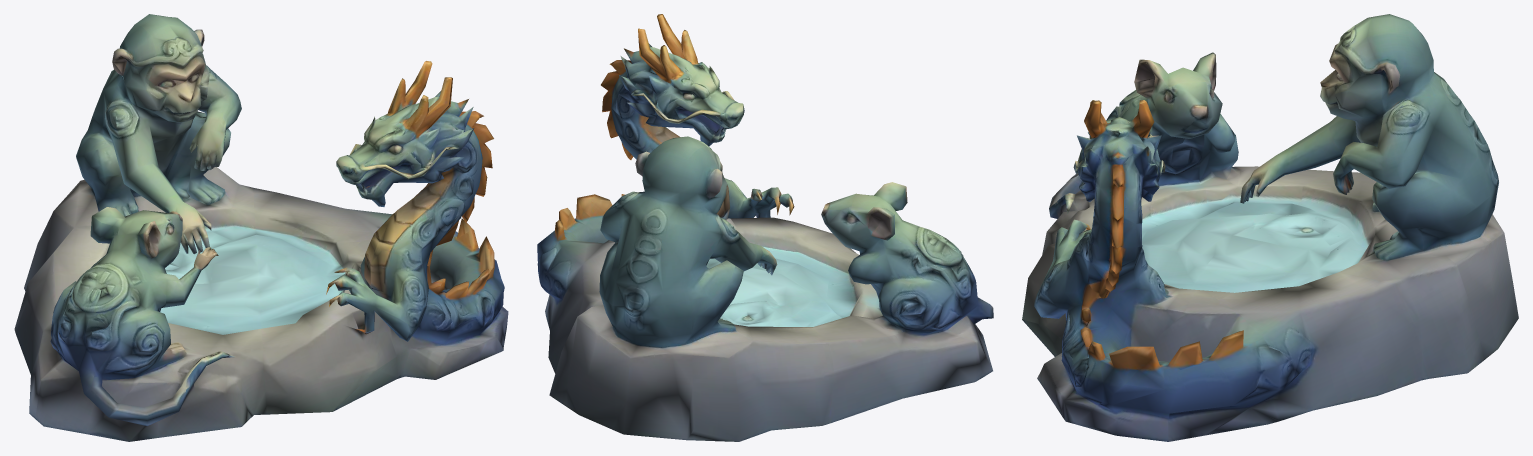
Rendered from sanhe_water.glb.
3 renders of one model, left to right at view 1: azimuth 30°, elevation 25°; view 2: azimuth 150°, elevation 25°; view 3: azimuth 270°, elevation 25°, orthographic. The views are drawn at different scales.
Visible parts, largest first — view 1: tripo_node_fcee605e-6d6f-4594-a5c4-490d564dcbd0; view 2: tripo_node_fcee605e-6d6f-4594-a5c4-490d564dcbd0; view 3: tripo_node_fcee605e-6d6f-4594-a5c4-490d564dcbd0.
Part boxes in pixels (x1,y1,x2,y2): tripo_node_fcee605e-6d6f-4594-a5c4-490d564dcbd0: (14,14,508,441); tripo_node_fcee605e-6d6f-4594-a5c4-490d564dcbd0: (537,14,993,441); tripo_node_fcee605e-6d6f-4594-a5c4-490d564dcbd0: (1022,14,1518,441).
Bounding box in the file's own units: 0.9997 × 0.5684 × 0.8542.
1 material, 1 textured.
